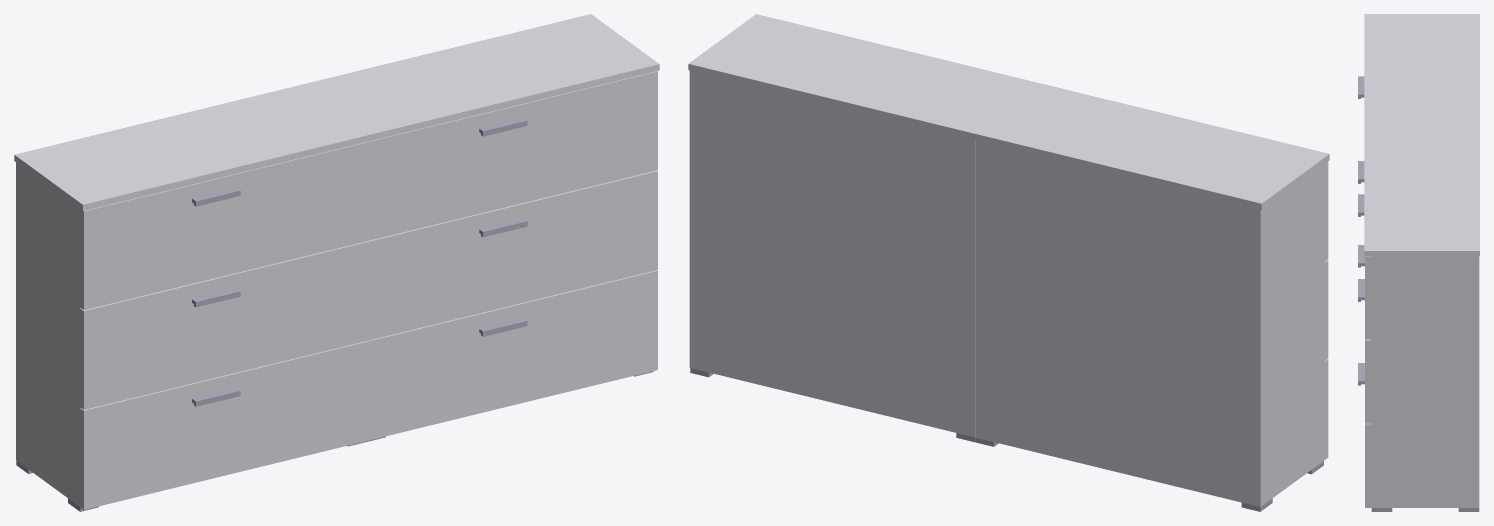
File: abo-B07GFL6W68.glb
The picture shows the model from 3 angles, left to right: view 1: azimuth 30°, elevation 25°; view 2: azimuth 150°, elevation 25°; view 3: azimuth 270°, elevation 25°; orthographic projection. The views are drawn at different scales.
Size of the model in its own units: 1.54 by 0.79 by 0.333.
1 material, 1 textured.
